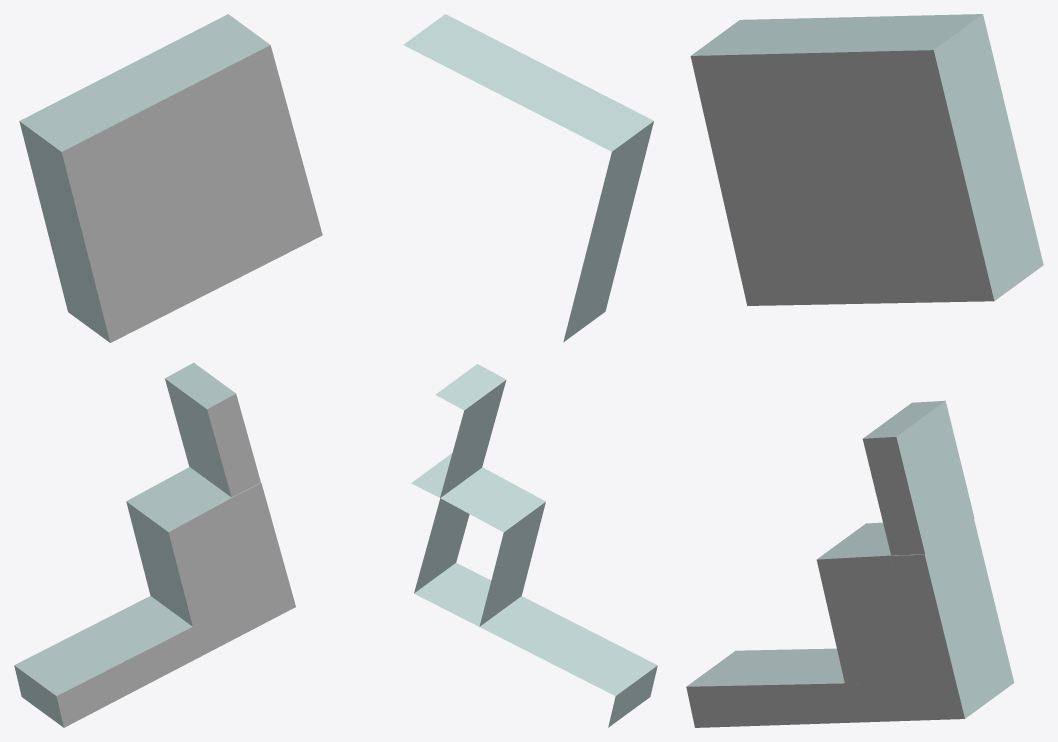
3 views of the same model, side by side, from view 1: azimuth 30°, elevation 25°; view 2: azimuth 150°, elevation 25°; view 3: azimuth 330°, elevation 25° (orthographic). The views are drawn at different scales.
Parts seen in each view (by area): view 1: 0_2_1_2_3_0_1_3_0; view 2: 0_2_1_2_3_0_1_3_0; view 3: 0_2_1_2_3_0_1_3_0.
Part boxes in pixels (box(x1,y1,x2,y2)): 0_2_1_2_3_0_1_3_0: box(14, 14, 322, 727); 0_2_1_2_3_0_1_3_0: box(403, 14, 657, 727); 0_2_1_2_3_0_1_3_0: box(686, 14, 1043, 727).
Bounding box in the file's own units: 10.86 × 24.74 × 3.08.
